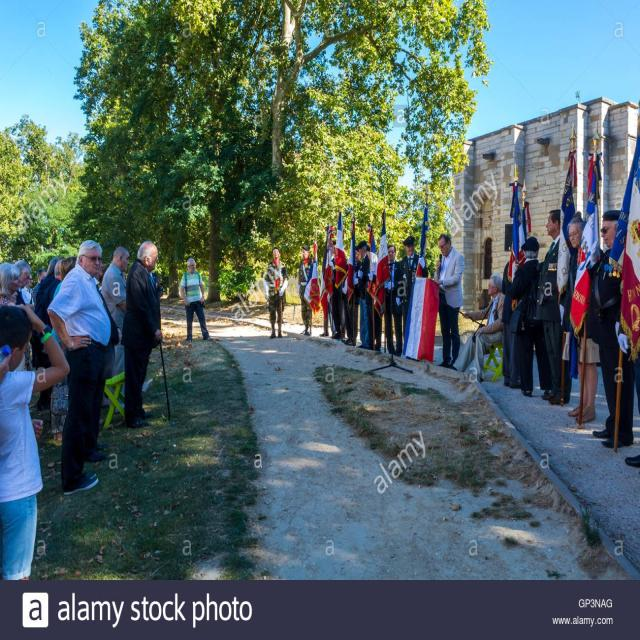body: (0, 303, 71, 580), (46, 238, 112, 498), (584, 208, 636, 450), (119, 237, 166, 430), (562, 213, 601, 424), (533, 207, 573, 406), (510, 236, 551, 397), (446, 273, 506, 383), (101, 245, 130, 414), (431, 232, 466, 369), (21, 250, 76, 307), (179, 256, 213, 344), (401, 235, 428, 340), (262, 244, 290, 339), (48, 336, 69, 456), (342, 245, 362, 346), (624, 351, 640, 470), (387, 243, 403, 357), (500, 259, 514, 389), (355, 239, 371, 351), (298, 245, 315, 336), (329, 241, 344, 340), (365, 246, 377, 351), (14, 259, 33, 307), (318, 290, 335, 340), (14, 260, 31, 308), (91, 422, 108, 467)
